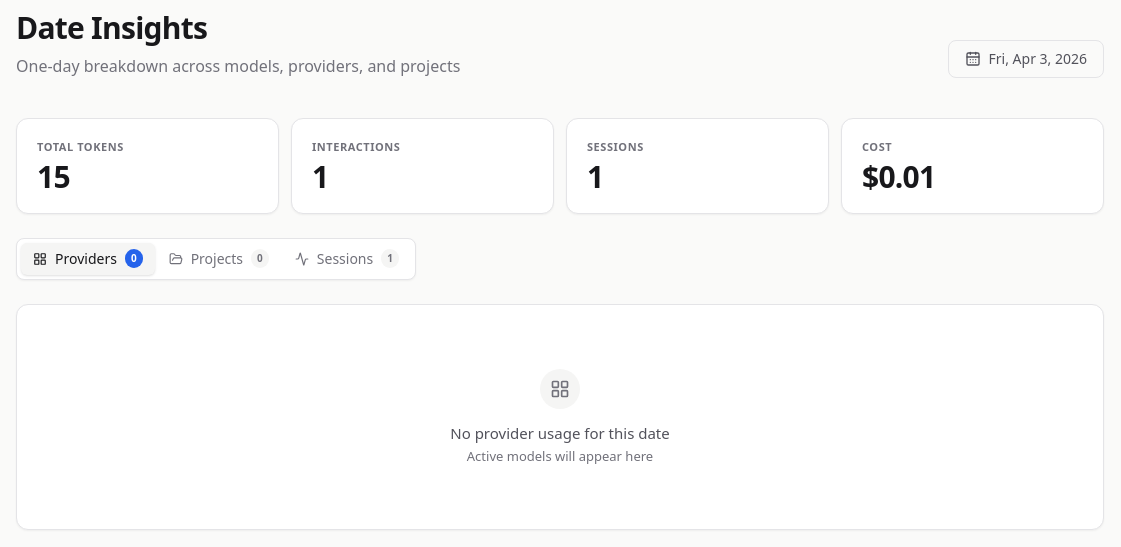
DateInsights page › shows session cards when Sessions tab is clicked
Note: Wait for data to load, then click Sessions tab
Click the button "Sessions 1".
click(347, 258)  # box [283,242,411,274]
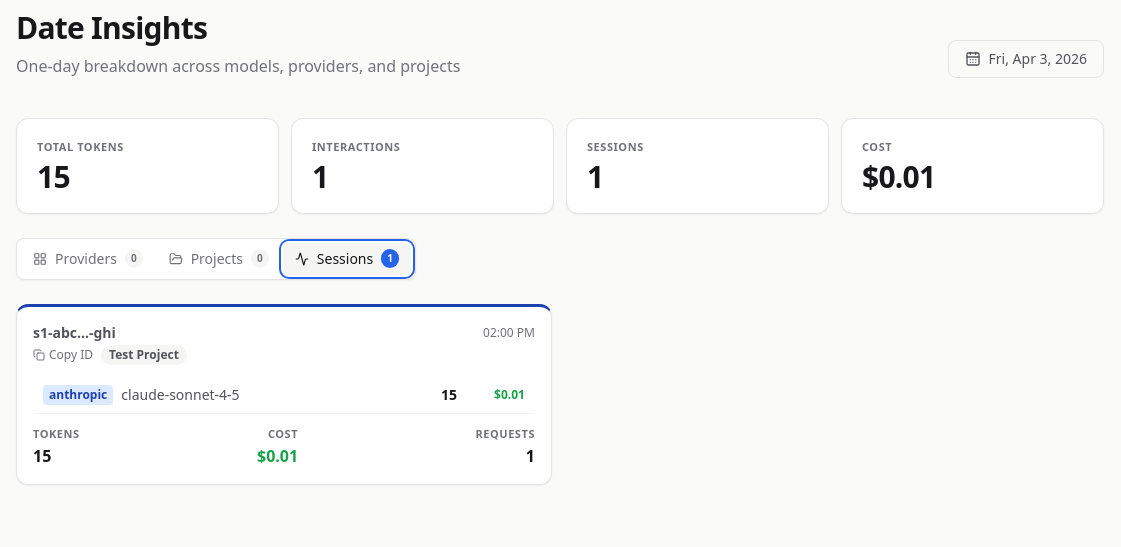
Expected: the text "Test Project" is shown, [101,344,187,364]
Expected: the text "claude-sonnet-4-5" is shown, [121,384,240,404]
